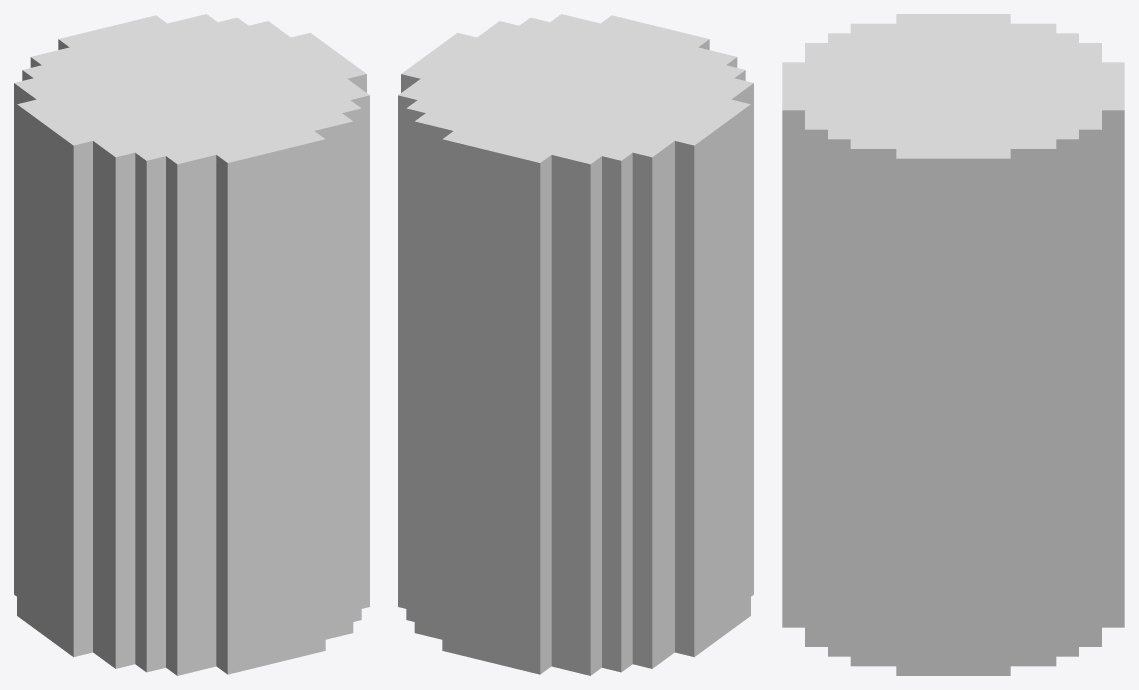
The model's file is rope.fbx.
3 renders of one model, left to right at view 1: azimuth 30°, elevation 25°; view 2: azimuth 150°, elevation 25°; view 3: azimuth 270°, elevation 25°, orthographic.
Parts seen in each view (by area): view 1: Cylinder; view 2: Cylinder; view 3: Cylinder.
Part boxes in pixels (left/top/right/bottom): Cylinder: left=14, top=14, right=369, bottom=675; Cylinder: left=398, top=14, right=753, bottom=675; Cylinder: left=782, top=14, right=1124, bottom=675.
Size of the model in its own units: 15 by 25 by 15.
1 material, 1 textured.
